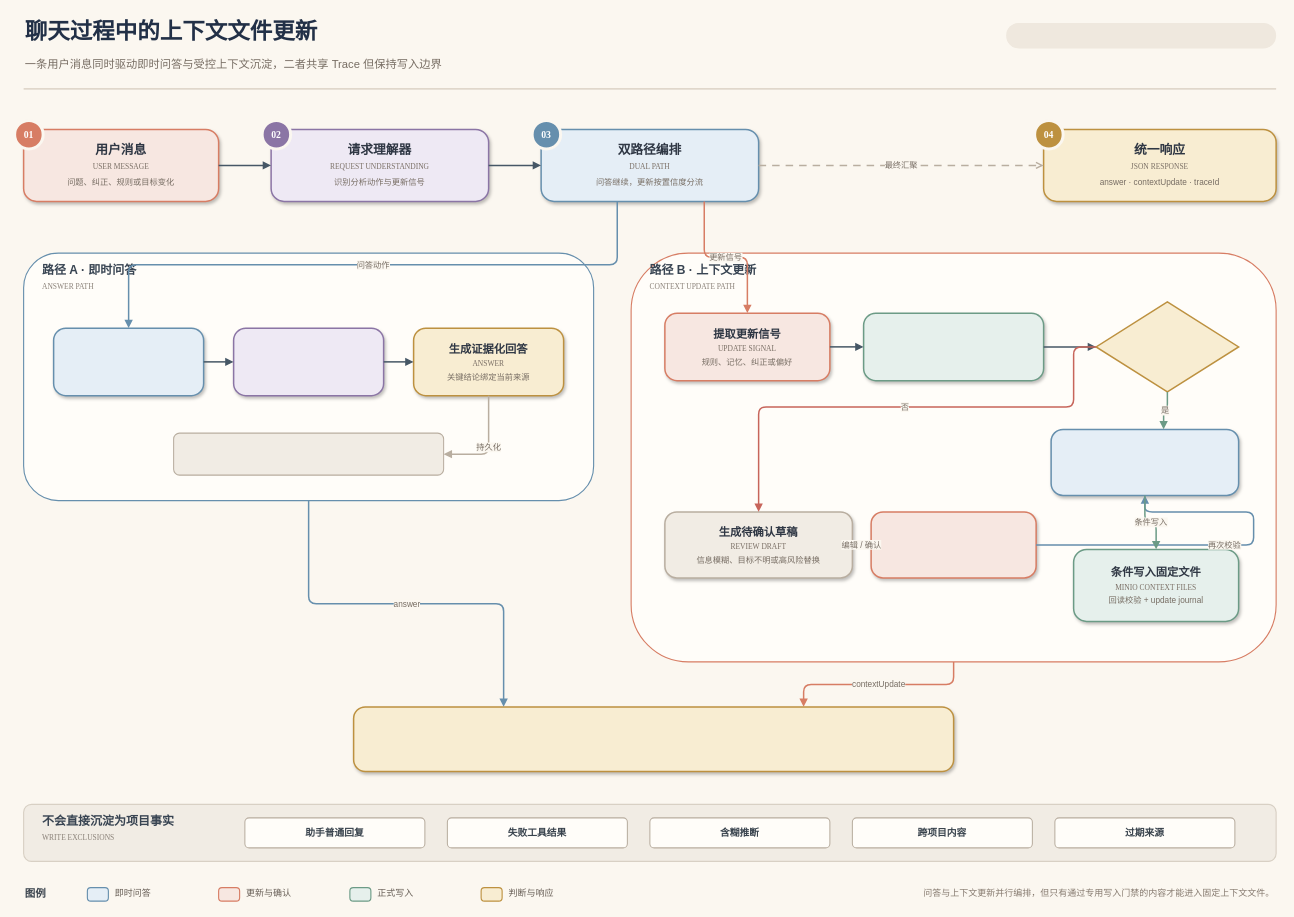
Some shapes in this 1294 by 917 pixel diagram are drawn without their labels. Here are the shapes that lost their labels. From the top down, the centre of each, then its label:
At point 1141,35: "CHAT · ANSWER + CONTEXT UPDATE".
At point 129,362: "构建项目上下文 BUILD CONTEXT 归一化、召回与原文补证".
At point 309,362: "有限 Agent 执行 AGENT LOOP 计划、工具与结构化观察".
At point 954,347: "映射目标类型 TARGET MAPPING 项目规则 · 长期记忆 短期记忆 · 项目偏好".
At point 1167,346: "明确且无冲突？ CONFIDENCE GATE".
At point 308,453: "保存消息与运行轨迹 MESSAGE + RUN".
At point 1145,463: "统一写入门禁 WRITE GUARD 范围 · 分区 · 版本 · 幂等".
At point 954,546: "用户编辑并确认 HUMAN CONFIRMATION 确认后仍重新执行门禁".
At point 654,740: "合并本轮结果 RESPONSE ASSEMBLY 回答、更新结果或 draftId 与同一 traceId 返回".
